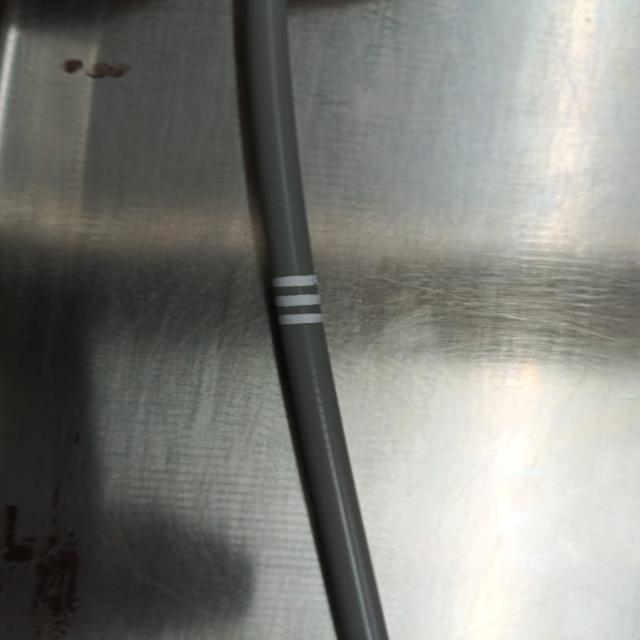white: (262, 276, 331, 329)
